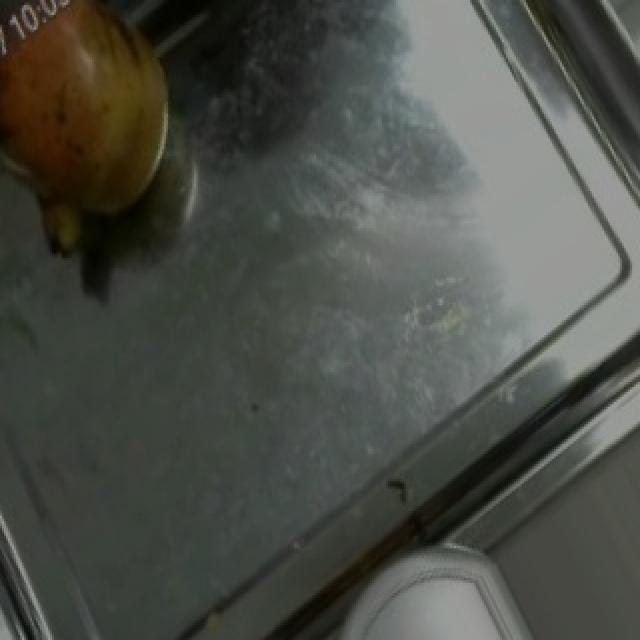fruit: (0, 0, 204, 260), (340, 536, 566, 640)
